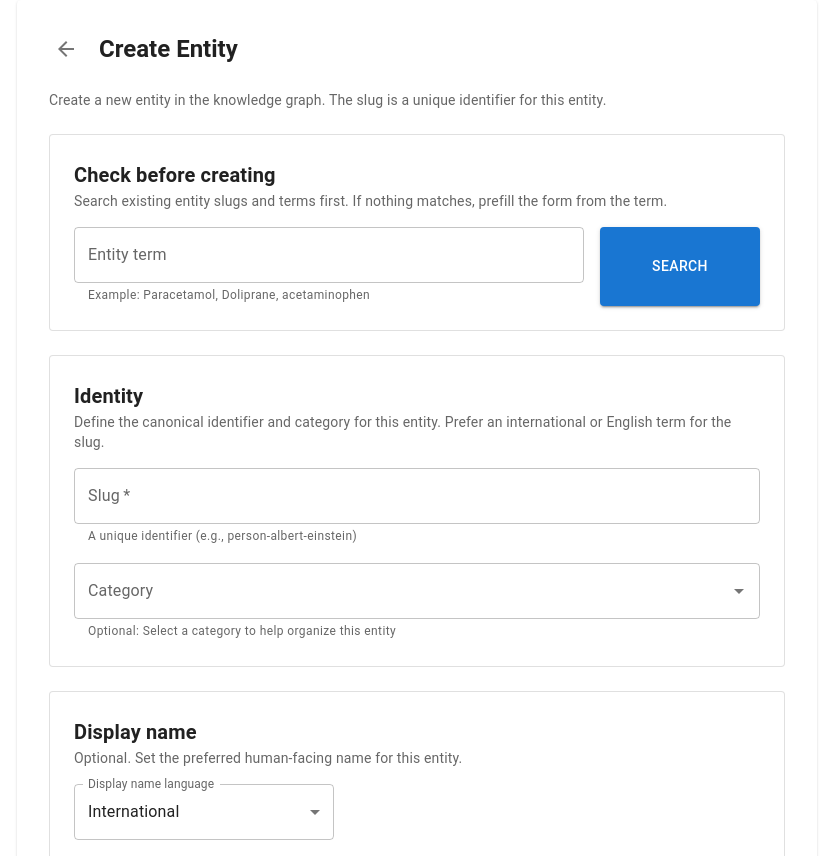
it: CreateEntityView › slugifies the slug field while typing
Type "Crème brûlée 2026!!!" into the field labelled "Slug *". click: (417, 496)
box: x1=74 y1=468 x2=760 y2=524
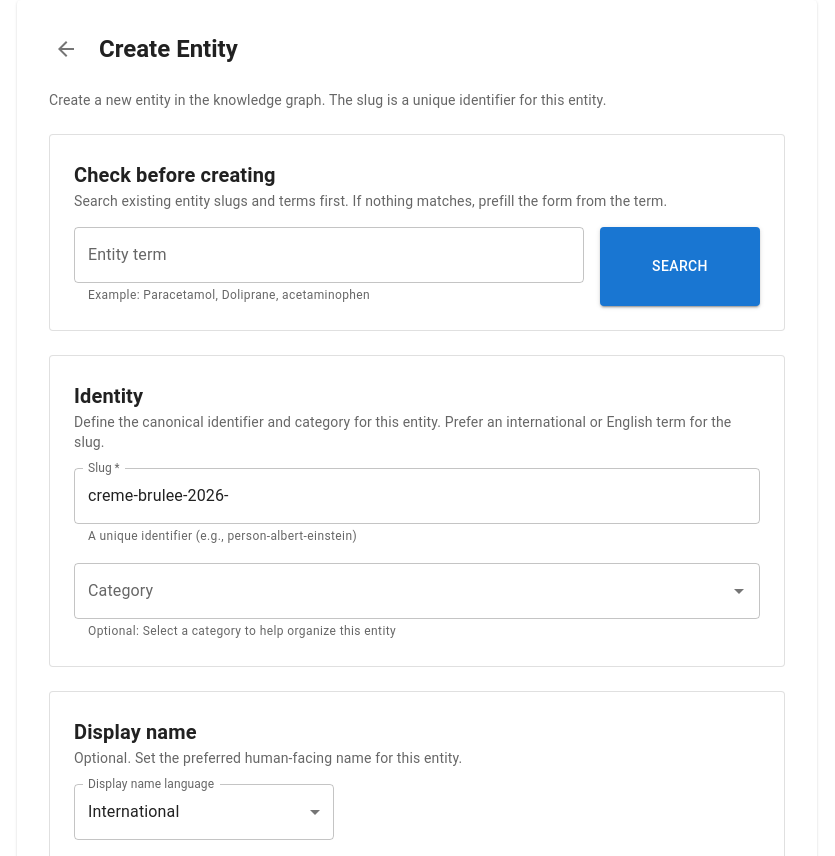
Expected: the field labelled "Slug *" holds "creme-brulee-2026-", x1=74 y1=468 x2=760 y2=524
